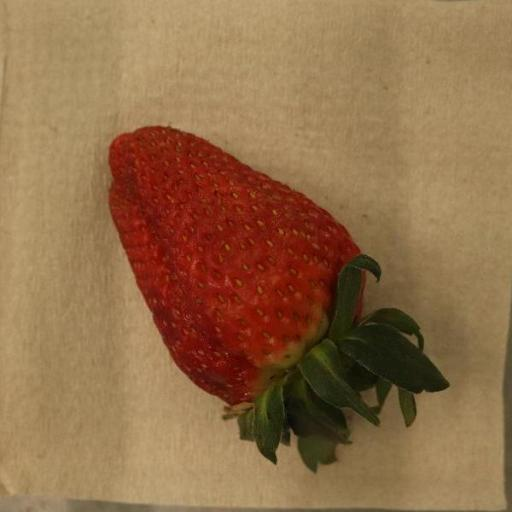Strawberry: (110, 126, 453, 473)
